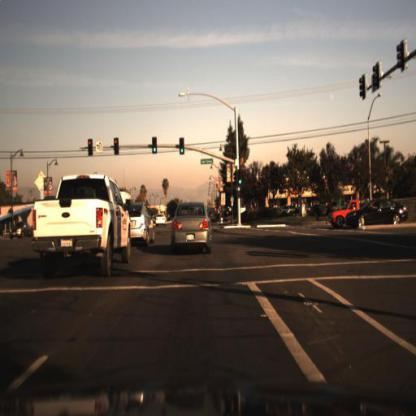car: (25, 161, 137, 281), (165, 196, 220, 264), (345, 195, 411, 235), (11, 188, 39, 230), (328, 197, 364, 229), (129, 202, 154, 247), (325, 199, 349, 235), (9, 222, 34, 243), (152, 206, 170, 233)
trafficLight: (112, 128, 120, 155), (88, 138, 96, 159), (152, 135, 160, 154)
trafficLight-Green: (176, 131, 190, 162), (236, 169, 244, 195), (150, 129, 158, 153), (238, 169, 245, 191)
trafficLight-Red: (179, 136, 186, 157)
trafficLight-RedLeft: (85, 131, 95, 157)
